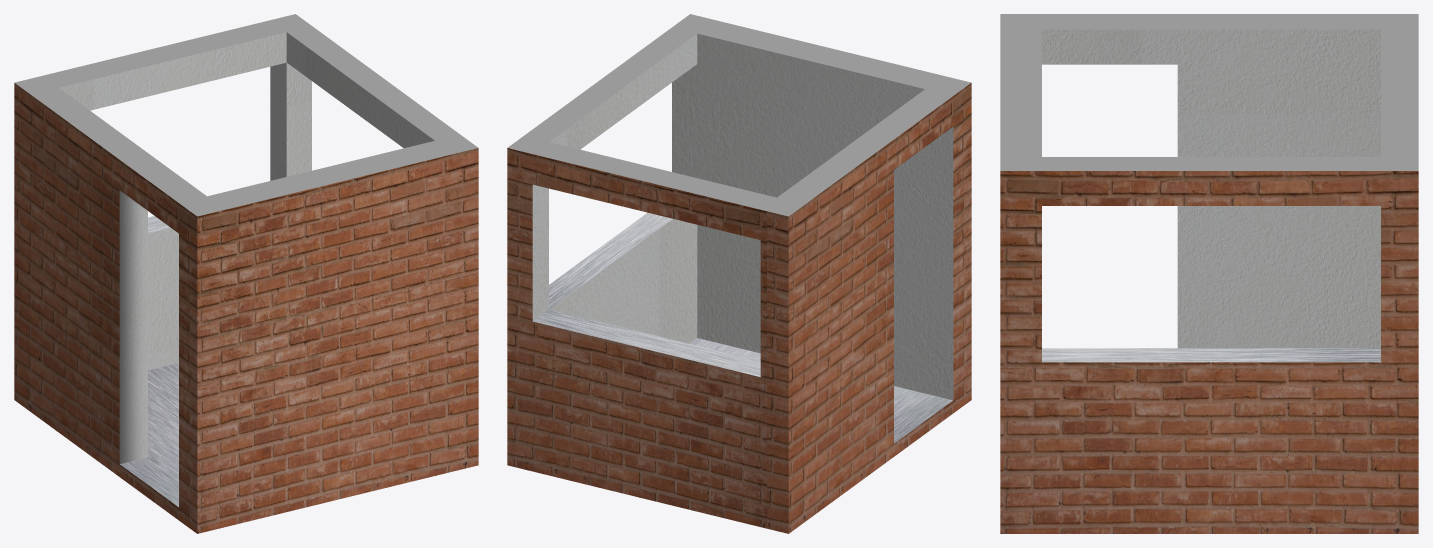
The model's file is SecurityCabine.fbx.
3 views of the same model, side by side, from view 1: azimuth 30°, elevation 25°; view 2: azimuth 150°, elevation 25°; view 3: azimuth 270°, elevation 25° (orthographic). The views are drawn at different scales.
Parts seen in each view (by area): view 1: pCube1; view 2: pCube1; view 3: pCube1.
Boxes of the visible parts, x1,y1,x2,y2 form: pCube1: (14, 14, 478, 533); pCube1: (507, 14, 971, 533); pCube1: (1000, 14, 1418, 533).
Bounding box in the file's own units: 13.9 × 14.98 × 15.66.
4 materials, 3 textured.
